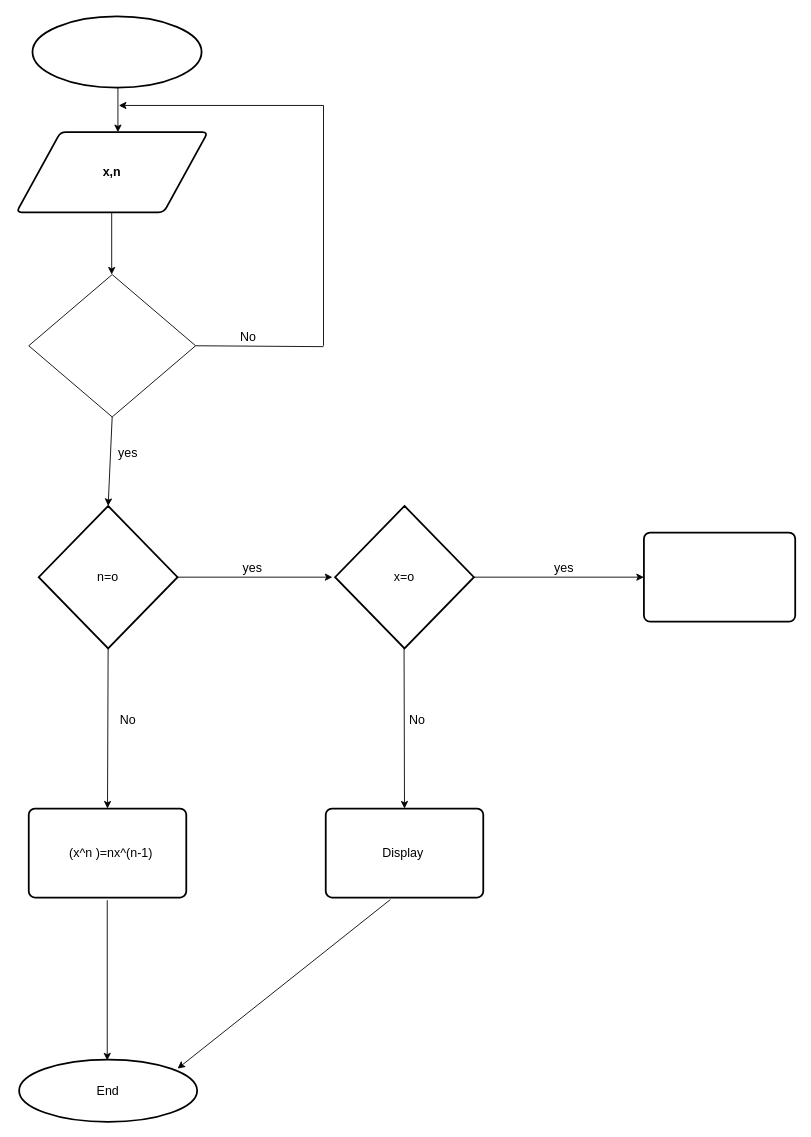
The diagram is 811 pixels wide and 1137 high, and some of its shapes have lost their labels. The box of each missing label's shape, as (x1, y1, x2, y2) in pixels:
Error: (643, 531, 796, 622)
is n realnumber ?: (28, 274, 196, 417)
Start: (31, 15, 202, 88)
